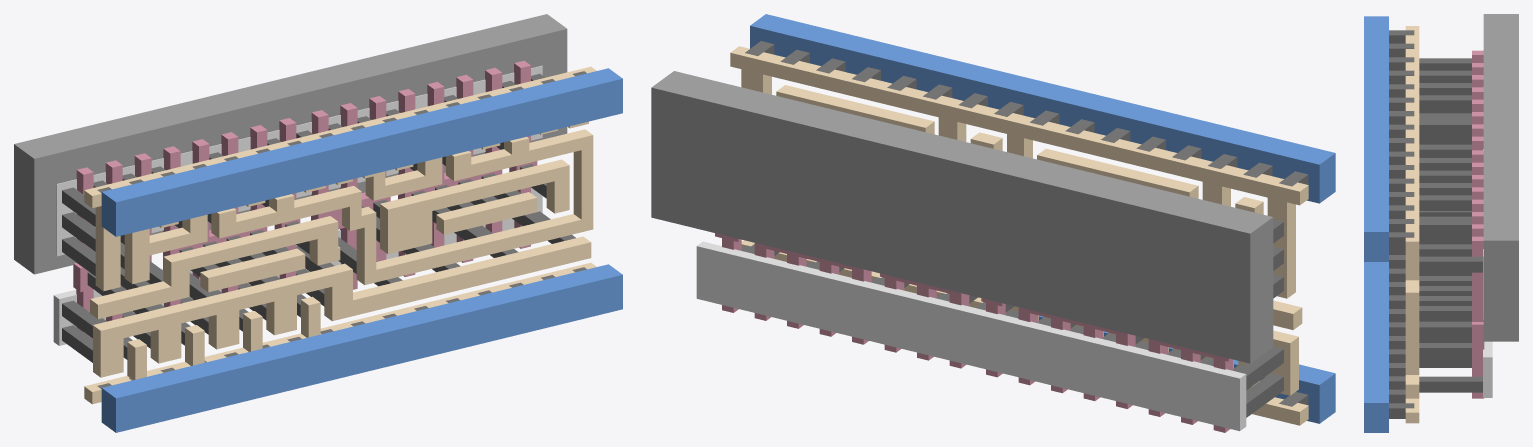
Rendered from sky130_fd_sc_hd__o22ai_4.gds.gltf.
3 views of the same model, side by side, from view 1: azimuth 30°, elevation 25°; view 2: azimuth 150°, elevation 25°; view 3: azimuth 270°, elevation 25° (orthographic). The views are drawn at different scales.
Visible parts, largest first — view 1: sky130_fd_sc_hd__o22ai_4_li1, sky130_fd_sc_hd__o22ai_4_met1, sky130_fd_sc_hd__o22ai_4_nwell, sky130_fd_sc_hd__o22ai_4_licon, sky130_fd_sc_hd__o22ai_4_poly, sky130_fd_sc_hd__o22ai_4_diff, sky130_fd_sc_hd__o22ai_4_mcon; view 2: sky130_fd_sc_hd__o22ai_4_nwell, sky130_fd_sc_hd__o22ai_4_diff, sky130_fd_sc_hd__o22ai_4_li1, sky130_fd_sc_hd__o22ai_4_met1, sky130_fd_sc_hd__o22ai_4_poly, sky130_fd_sc_hd__o22ai_4_mcon, sky130_fd_sc_hd__o22ai_4_licon; view 3: sky130_fd_sc_hd__o22ai_4_licon, sky130_fd_sc_hd__o22ai_4_nwell, sky130_fd_sc_hd__o22ai_4_met1, sky130_fd_sc_hd__o22ai_4_mcon, sky130_fd_sc_hd__o22ai_4_li1, sky130_fd_sc_hd__o22ai_4_poly, sky130_fd_sc_hd__o22ai_4_diff.
Boxes of the visible parts, x1,y1,x2,y2 form: sky130_fd_sc_hd__o22ai_4_li1: [84, 66, 596, 404]; sky130_fd_sc_hd__o22ai_4_met1: [101, 68, 622, 432]; sky130_fd_sc_hd__o22ai_4_nwell: [14, 14, 567, 274]; sky130_fd_sc_hd__o22ai_4_licon: [62, 73, 575, 362]; sky130_fd_sc_hd__o22ai_4_poly: [73, 60, 537, 338]; sky130_fd_sc_hd__o22ai_4_diff: [53, 65, 542, 345]; sky130_fd_sc_hd__o22ai_4_mcon: [97, 71, 586, 388]; sky130_fd_sc_hd__o22ai_4_nwell: [651, 71, 1273, 363]; sky130_fd_sc_hd__o22ai_4_diff: [696, 241, 1246, 431]; sky130_fd_sc_hd__o22ai_4_li1: [730, 46, 1308, 425]; sky130_fd_sc_hd__o22ai_4_met1: [750, 14, 1335, 423]; sky130_fd_sc_hd__o22ai_4_poly: [715, 233, 1233, 432]; sky130_fd_sc_hd__o22ai_4_mcon: [745, 41, 1308, 406]; sky130_fd_sc_hd__o22ai_4_licon: [741, 219, 1283, 417]; sky130_fd_sc_hd__o22ai_4_licon: [1419, 58, 1482, 392]; sky130_fd_sc_hd__o22ai_4_nwell: [1483, 14, 1518, 341]; sky130_fd_sc_hd__o22ai_4_met1: [1364, 16, 1388, 432]; sky130_fd_sc_hd__o22ai_4_mcon: [1389, 30, 1414, 418]; sky130_fd_sc_hd__o22ai_4_li1: [1405, 26, 1419, 423]; sky130_fd_sc_hd__o22ai_4_poly: [1472, 50, 1484, 398]; sky130_fd_sc_hd__o22ai_4_diff: [1483, 50, 1492, 397].
Size of the model in its own units: 7.74 by 3.2 by 2.24.
